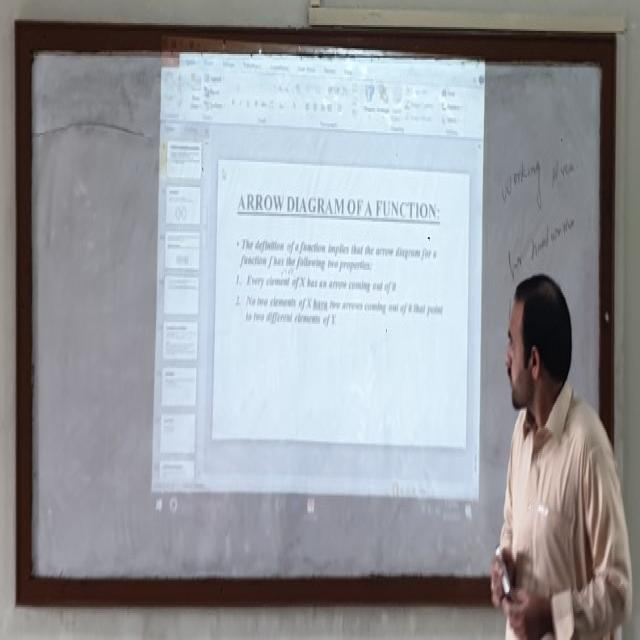Instructor: (490, 249, 619, 636)
Slide: (152, 40, 488, 528)
White-board: (23, 31, 605, 589)
